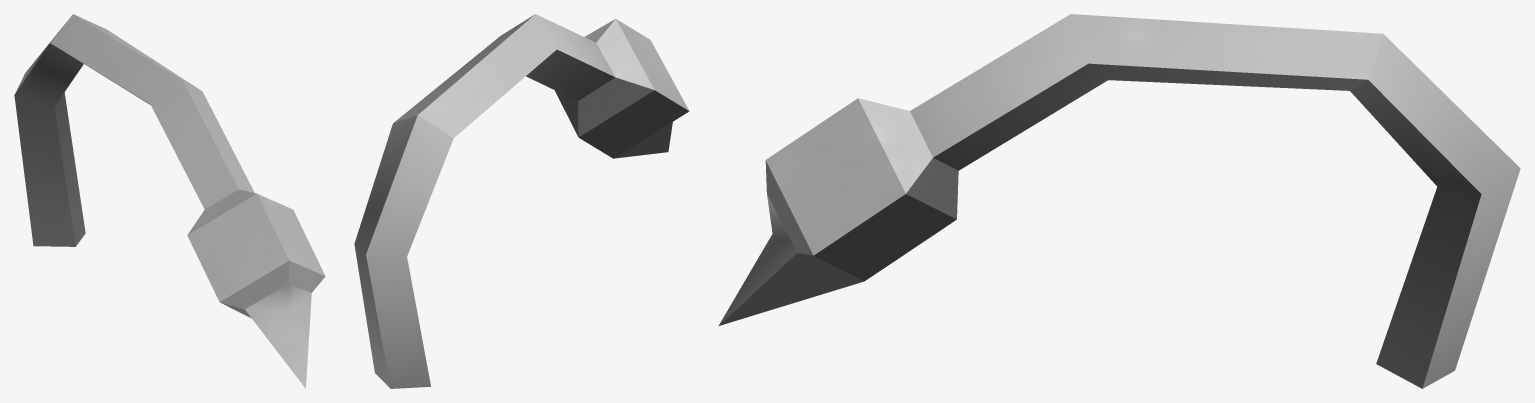
Rendered from MOB_Scorpion_Tail.obj.
3 renders of one model, left to right at view 1: azimuth 30°, elevation 25°; view 2: azimuth 150°, elevation 25°; view 3: azimuth 270°, elevation 25°, orthographic. The views are drawn at different scales.
Visible parts, largest first — view 1: MOB_Scorpion_Tail:Tail; view 2: MOB_Scorpion_Tail:Tail; view 3: MOB_Scorpion_Tail:Tail.
Part boxes in pixels (x1,y1,x2,y2): MOB_Scorpion_Tail:Tail: (14,14,325,388); MOB_Scorpion_Tail:Tail: (354,14,689,388); MOB_Scorpion_Tail:Tail: (718,14,1520,388).
Size of the model in its own units: 0.1143 by 0.2573 by 0.5244.
1 material, 1 textured.
